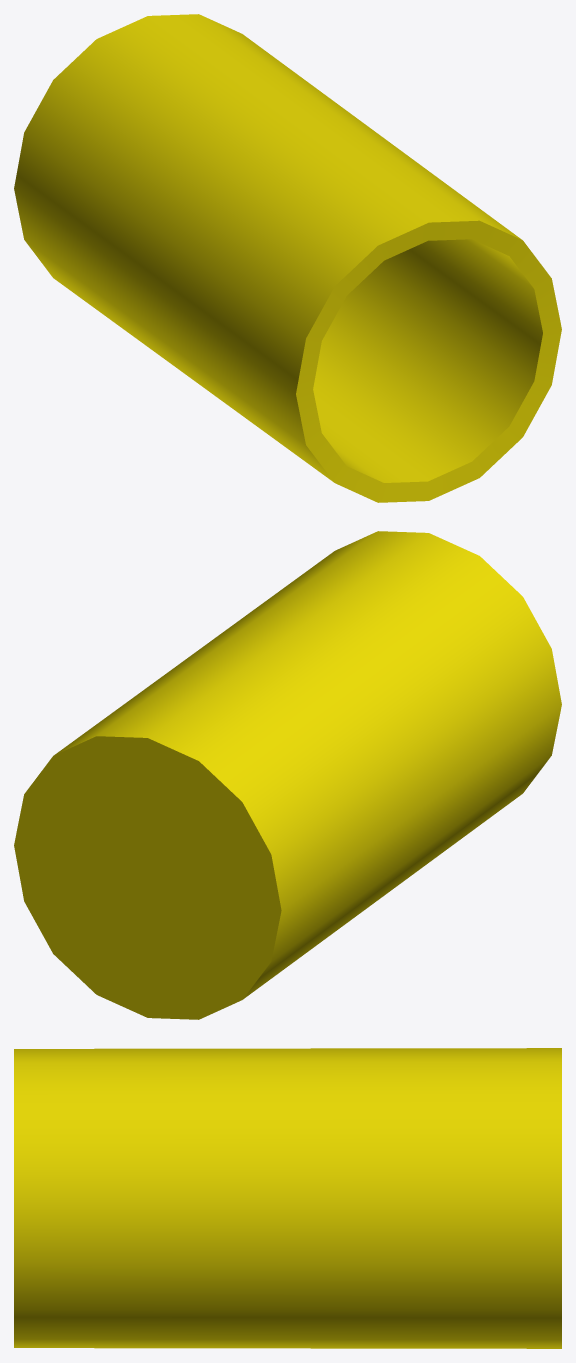
File: Casing.fbx
3 views of the same model, one above another, from view 1: azimuth 30°, elevation 25°; view 2: azimuth 150°, elevation 25°; view 3: azimuth 270°, elevation 25° (orthographic). The views are drawn at different scales.
Visible parts, largest first — view 1: Casing; view 2: Casing; view 3: Casing.
Part boxes in pixels (x1=…): Casing: x1=14, y1=14, x2=561, y2=502; Casing: x1=14, y1=531, x2=561, y2=1019; Casing: x1=14, y1=1048, x2=561, y2=1348.
Size of the model in its own units: 0.0106 by 0.0106 by 0.0193.
